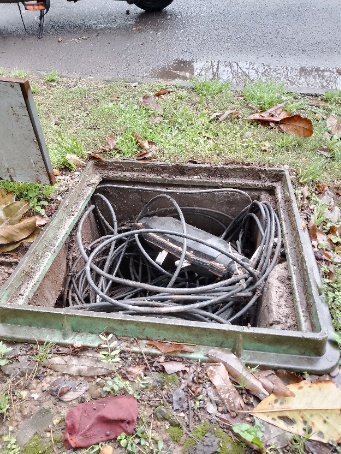lose: (1, 157, 341, 373)
